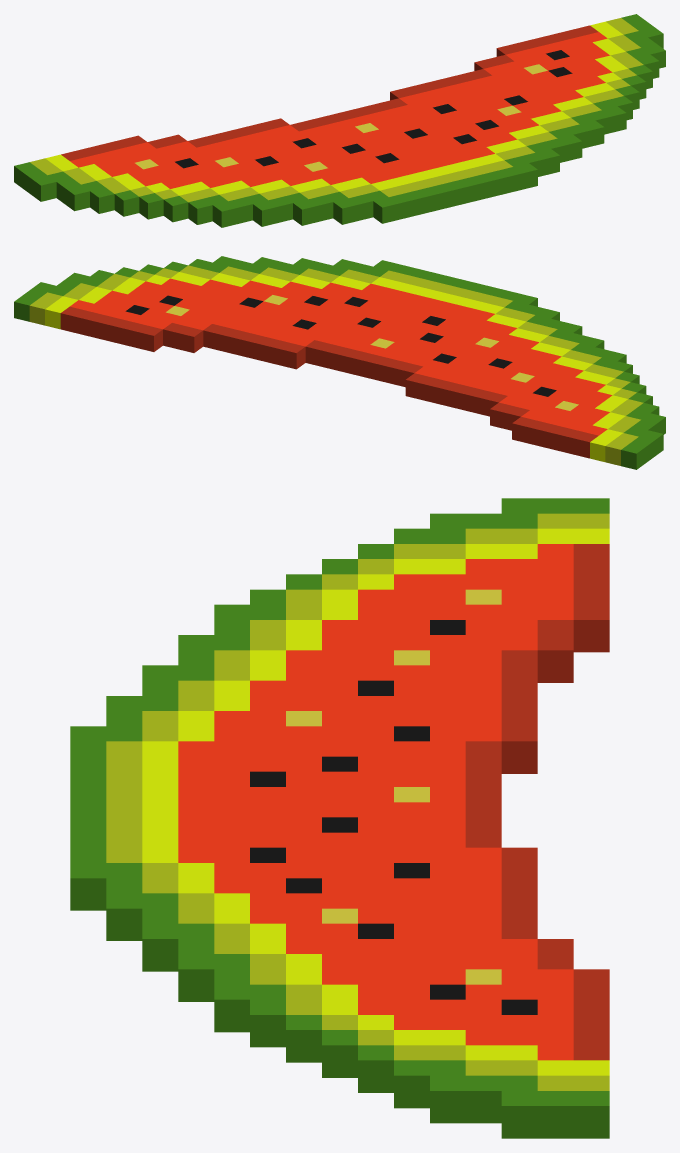
The model's file is Arbyz.obj.
3 renders of one model, top to bottom at view 1: azimuth 30°, elevation 25°; view 2: azimuth 150°, elevation 25°; view 3: azimuth 270°, elevation 25°, orthographic. The views are drawn at different scales.
Parts seen in each view (by area): view 1: Arbyz; view 2: Arbyz; view 3: Arbyz.
Boxes of the visible parts, x1=… form: Arbyz: x1=14, y1=14, x2=665, y2=227; Arbyz: x1=14, y1=256, x2=665, y2=469; Arbyz: x1=70, y1=498, x2=609, y2=1138.
Bounding box in the file's own units: 40 × 1 × 15.
1 material, 1 textured.
